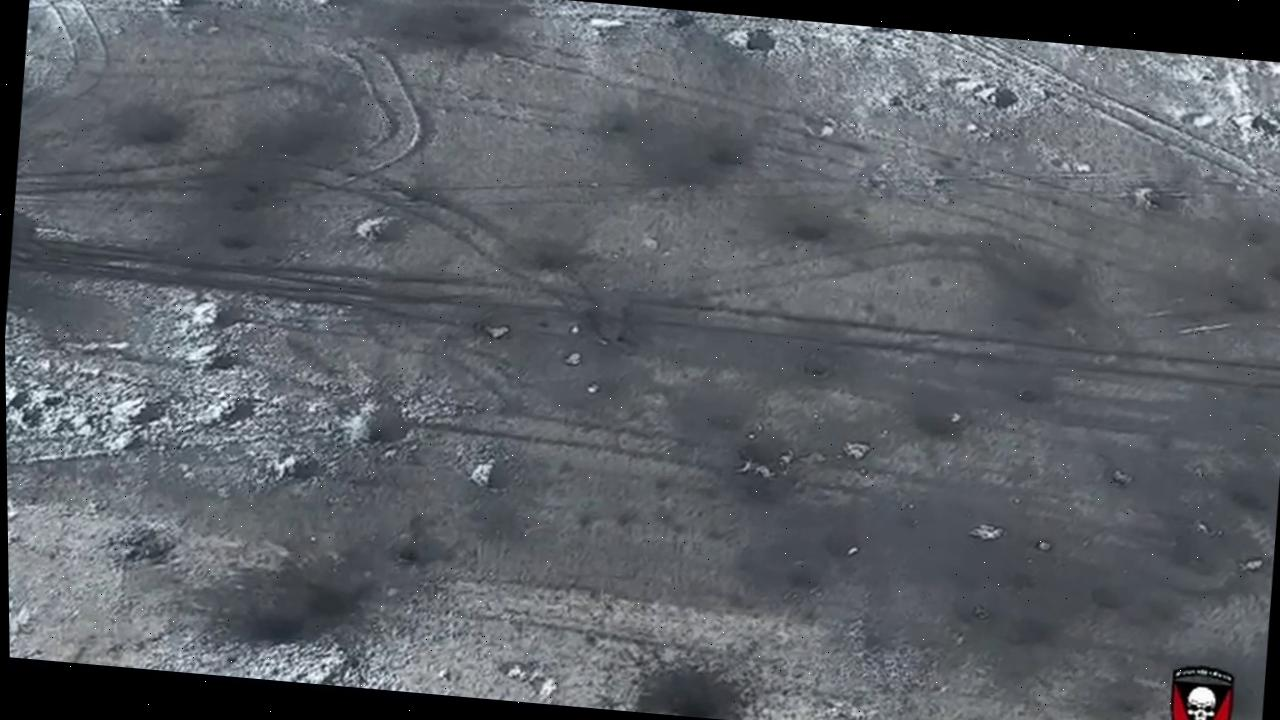person: (967, 522, 1007, 541), (840, 441, 871, 462), (480, 323, 509, 341), (1235, 557, 1263, 575), (1113, 466, 1135, 485), (754, 462, 776, 481), (779, 445, 798, 465), (740, 461, 754, 474)
